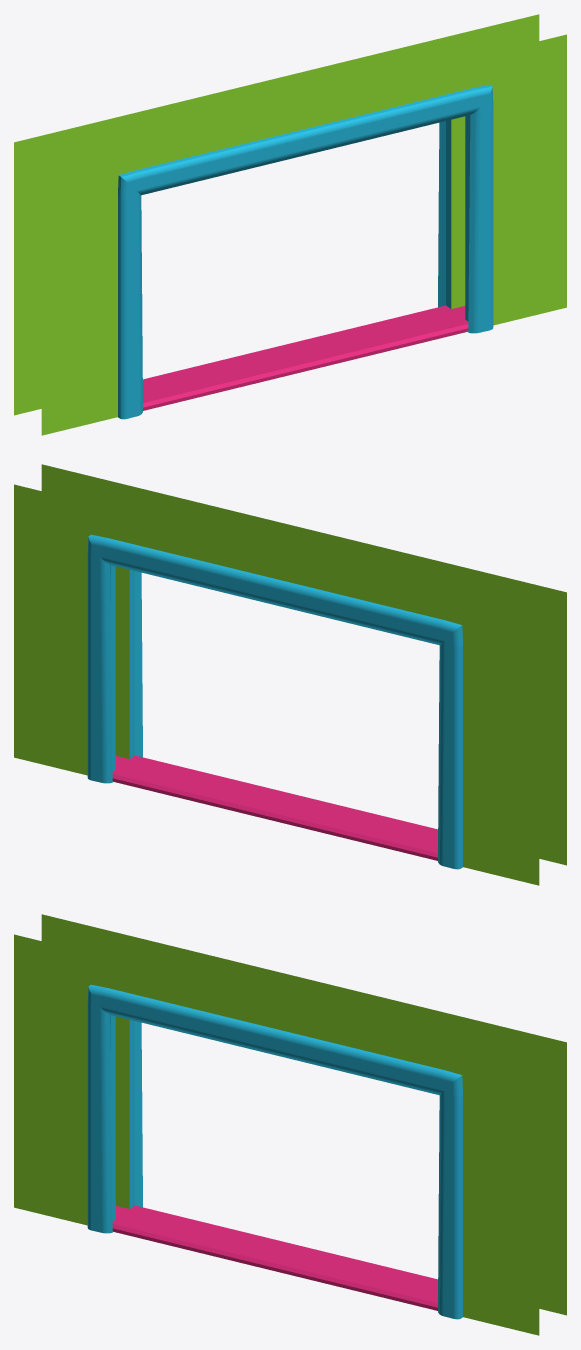
The model's file is Door_Wall.fbx.
3 renders of one model, top to bottom at view 1: azimuth 30°, elevation 25°; view 2: azimuth 150°, elevation 25°; view 3: azimuth 330°, elevation 25°, orthographic.
Visible parts, largest first — view 1: Door.Frame; view 2: Door.Frame; view 3: Door.Frame.
Boxes of the visible parts, bbox=[...] form: Door.Frame: bbox=[14, 14, 566, 435]; Door.Frame: bbox=[14, 464, 566, 885]; Door.Frame: bbox=[14, 914, 566, 1335].
Bounding box in the file's own units: 1409 × 700 × 168.
